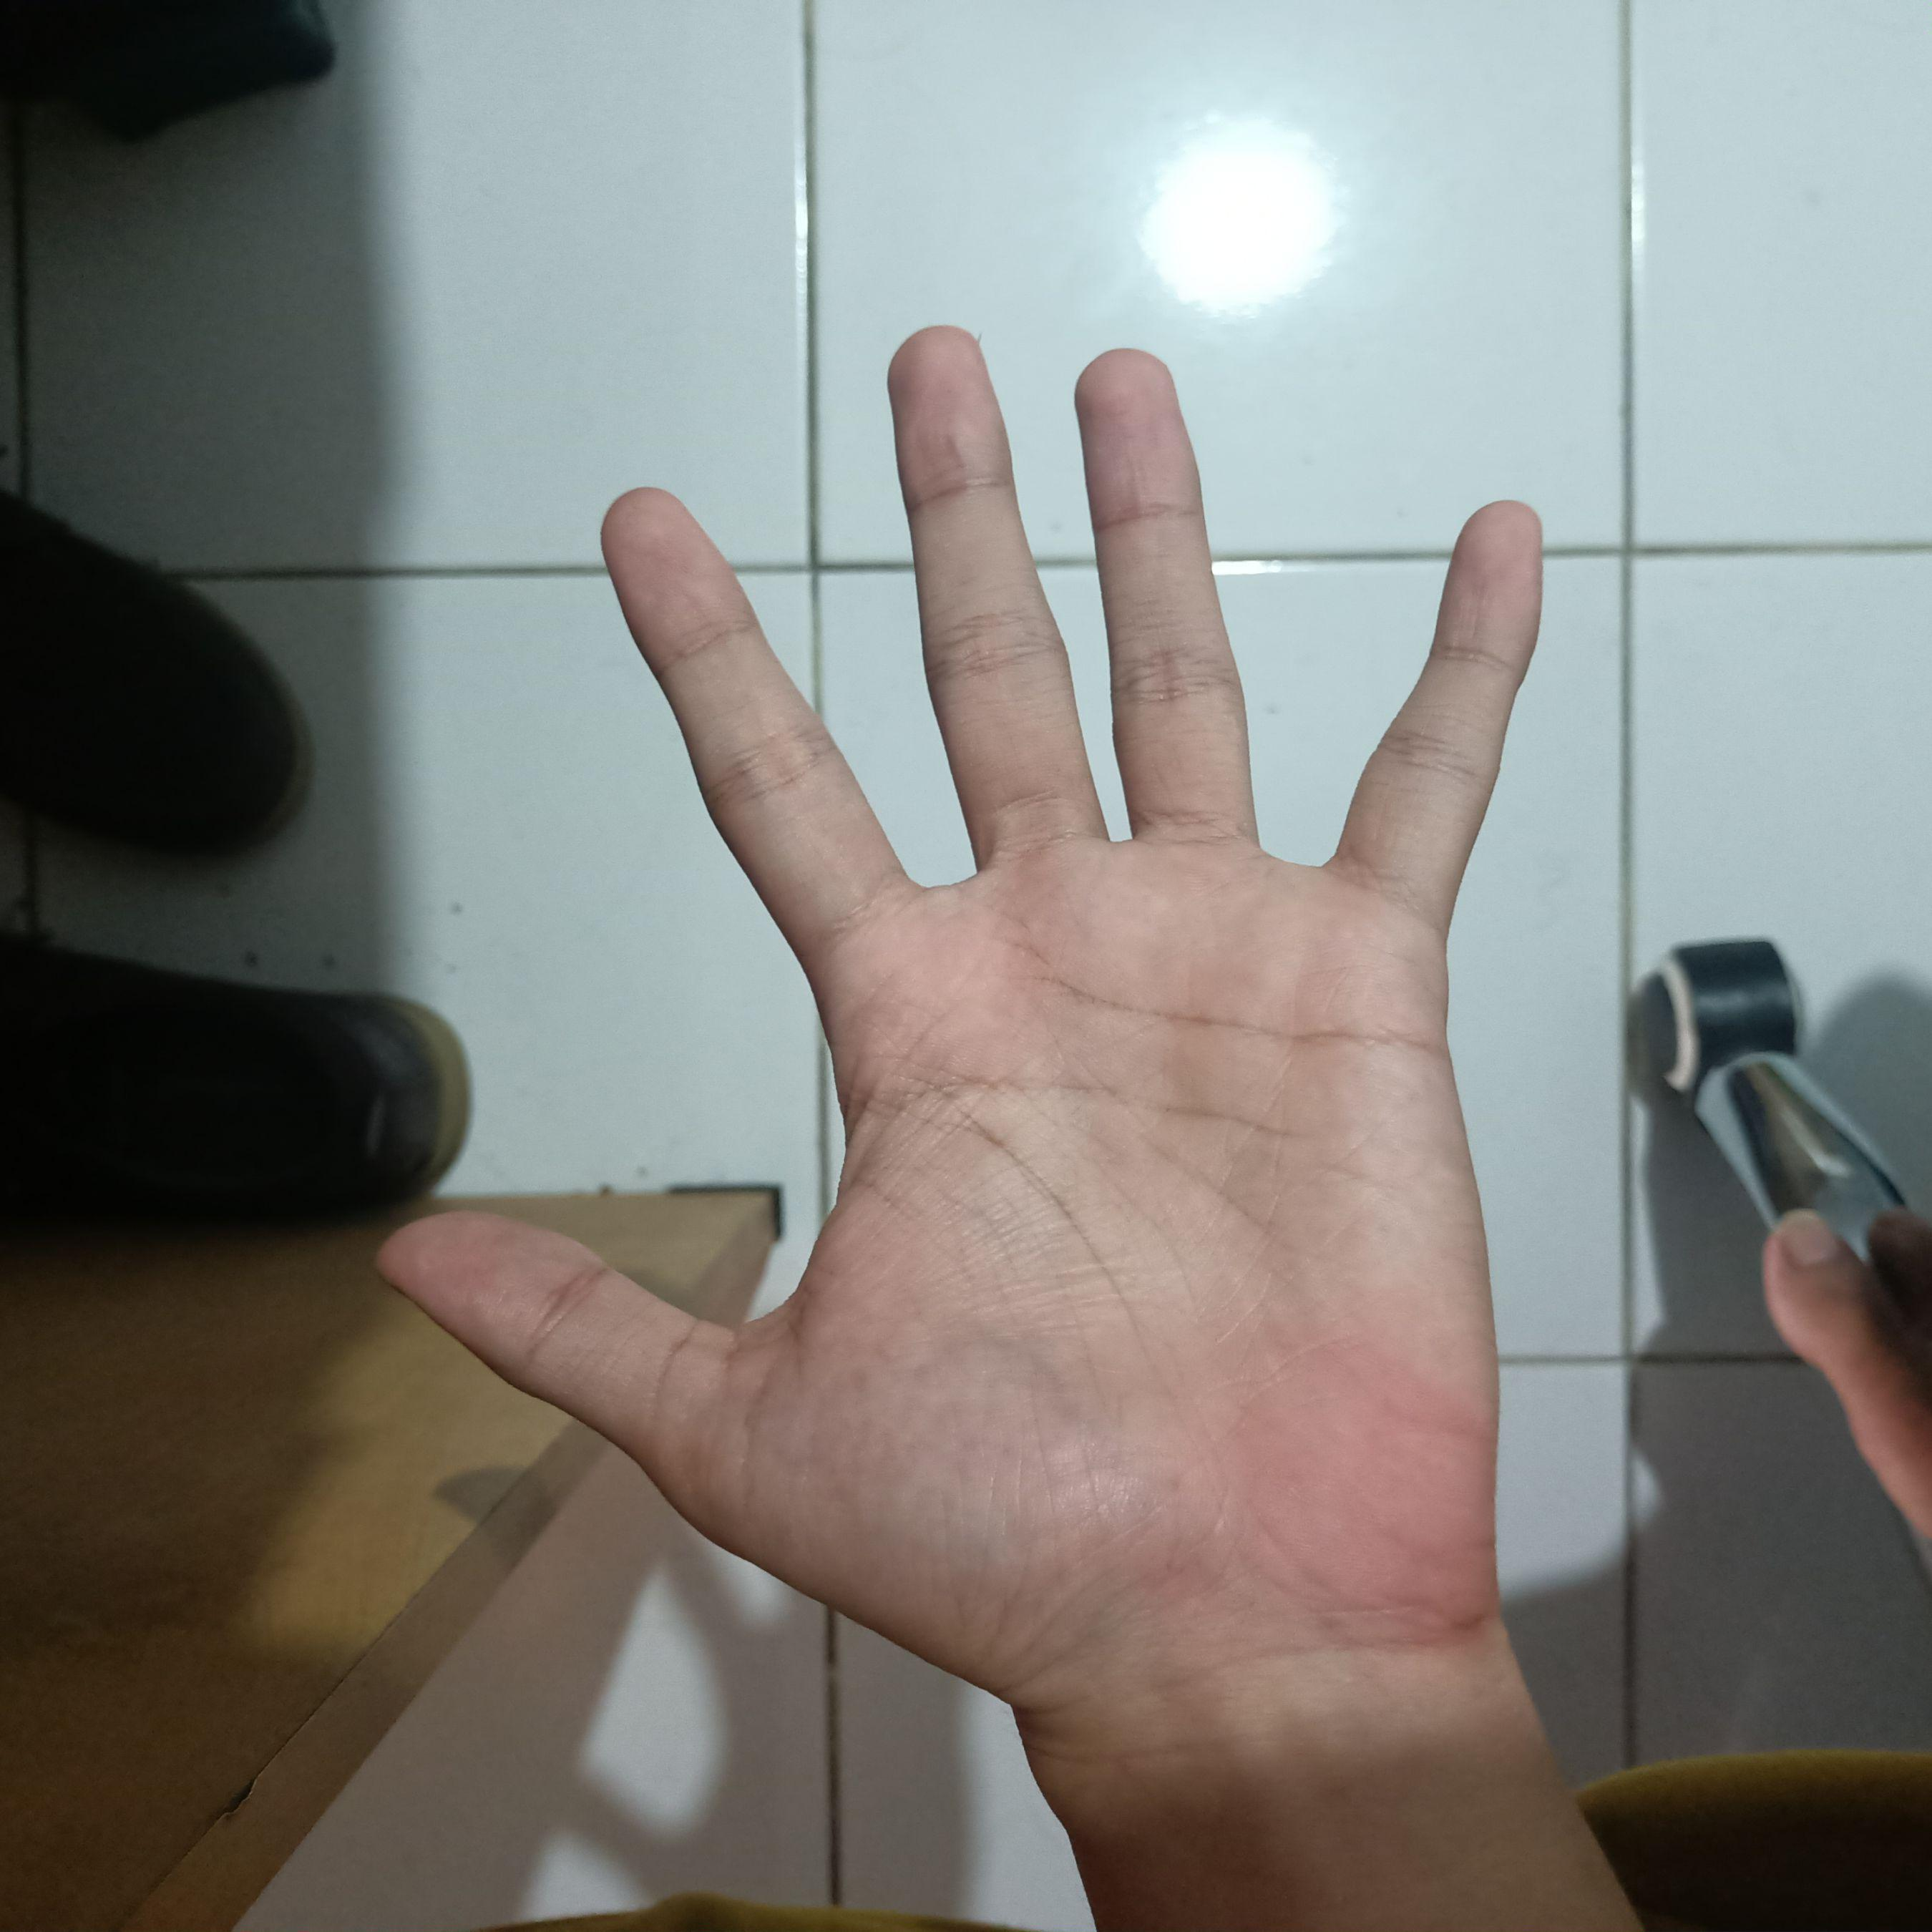paper: (349, 310, 1566, 1734)
